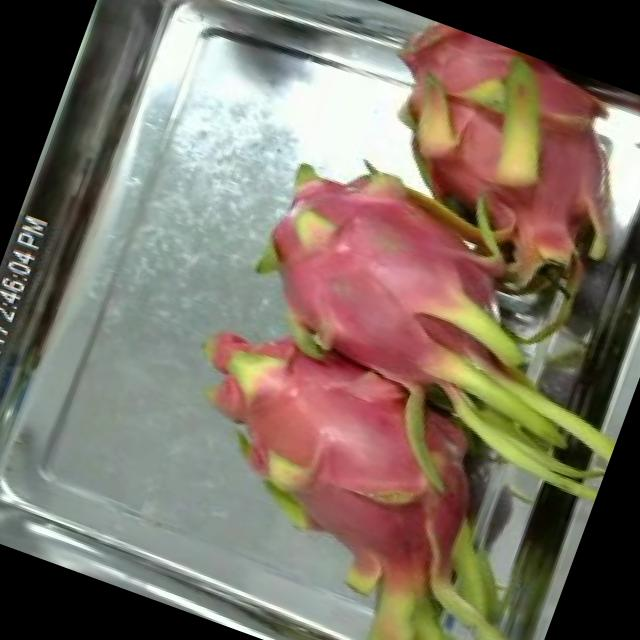Fruit: (375, 9, 546, 133)
